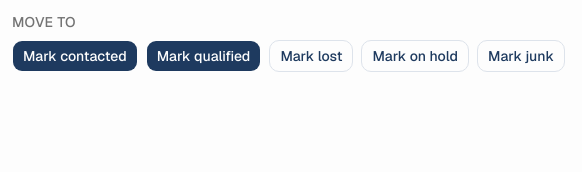
Test: TransitionFooter actions › renders the action error message on forward failure
Click the button with test id "transition-contacted" at (75, 56), box x1=12 y1=40 x2=138 y2=72
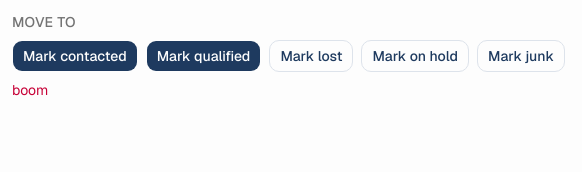
expect the message with test id "transition-error" reads "boom": met, box x1=12 y1=81 x2=48 y2=99
